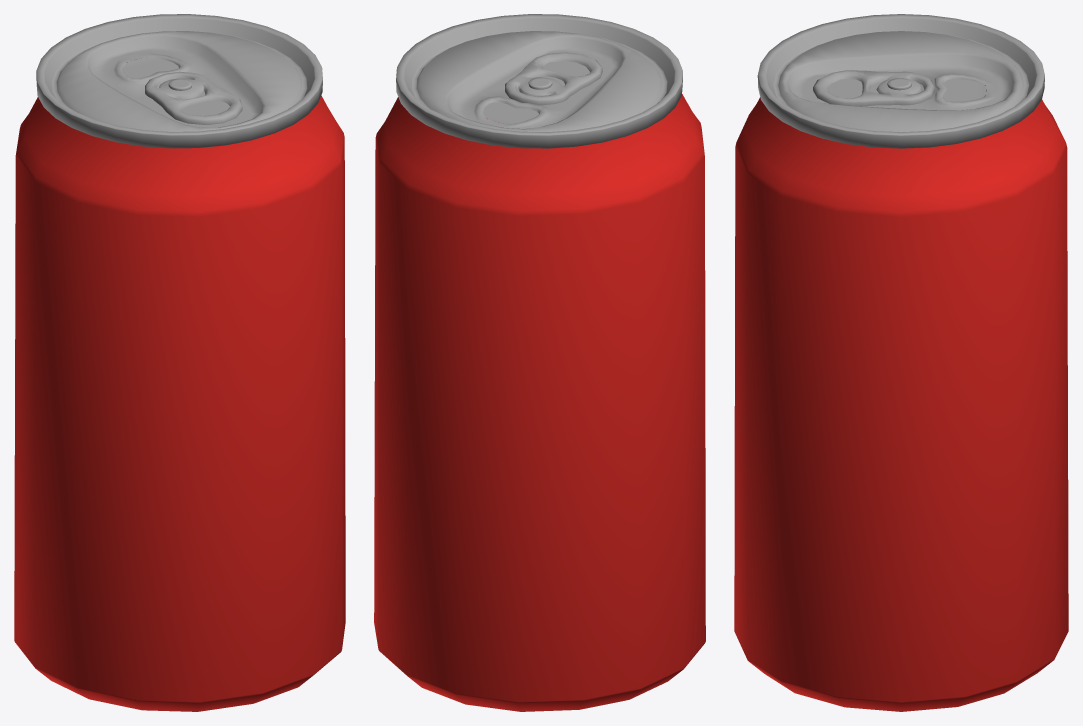
The model's file is soda_can_red.glb.
3 views of the same model, side by side, from view 1: azimuth 30°, elevation 25°; view 2: azimuth 150°, elevation 25°; view 3: azimuth 270°, elevation 25° (orthographic).
Parts seen in each view (by area): view 1: Soda_can_4, Top_3, Pick_1, Cover_0; view 2: Soda_can_4, Top_3, Pick_1, Cover_0; view 3: Soda_can_4, Top_3, Pick_1, Cover_0.
Boxes of the visible parts, x1=… form: Soda_can_4: x1=14, y1=62, x2=345, y2=711; Top_3: x1=36, y1=14, x2=322, y2=148; Pick_1: x1=145, y1=71, x2=242, y2=124; Cover_0: x1=123, y1=57, x2=178, y2=78; Soda_can_4: x1=374, y1=94, x2=705, y2=711; Top_3: x1=396, y1=14, x2=682, y2=148; Pick_1: x1=505, y1=52, x2=602, y2=105; Cover_0: x1=483, y1=102, x2=538, y2=123; Soda_can_4: x1=734, y1=85, x2=1068, y2=711; Top_3: x1=757, y1=14, x2=1044, y2=148; Pick_1: x1=813, y1=70, x2=934, y2=106; Cover_0: x1=944, y1=79, x2=986, y2=101.
Size of the model in its own units: 5.12 by 9.74 by 5.12.
